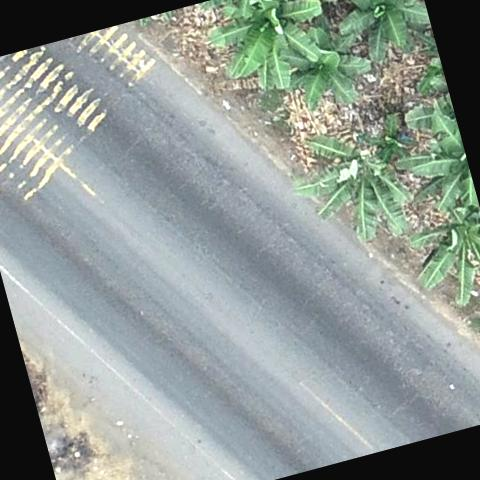Banana-plant: (282, 110, 426, 262), (193, 0, 340, 101), (265, 13, 382, 122), (392, 180, 480, 318), (390, 92, 478, 222), (324, 0, 439, 80), (352, 107, 417, 175)
